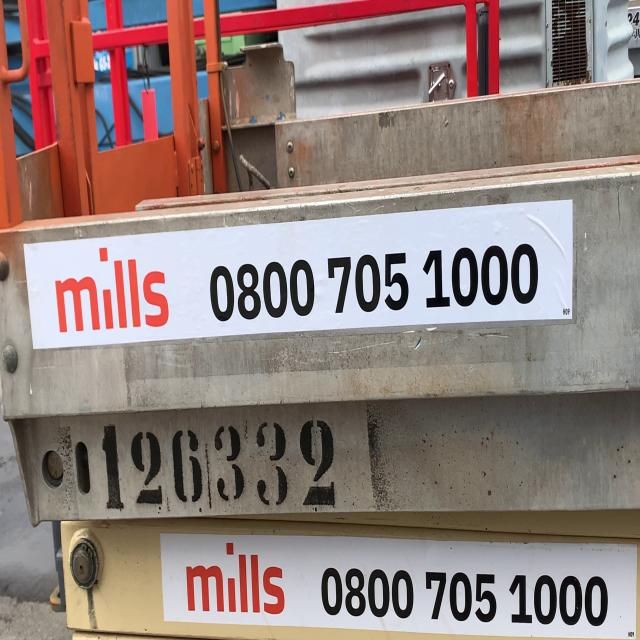Adesivo Longo: (158, 531, 639, 640)
Adesivos: (22, 193, 575, 354)
